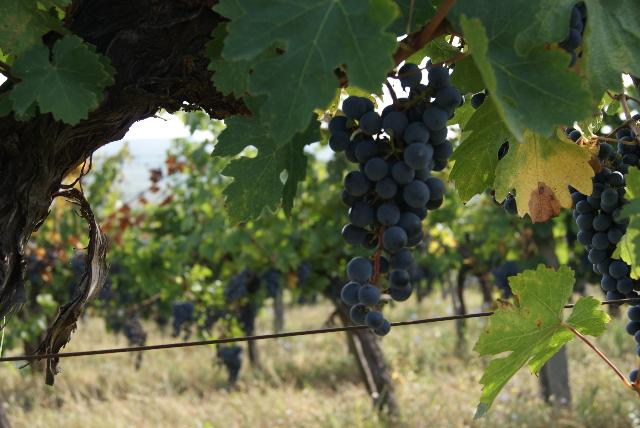grapes: (328, 64, 464, 336)
